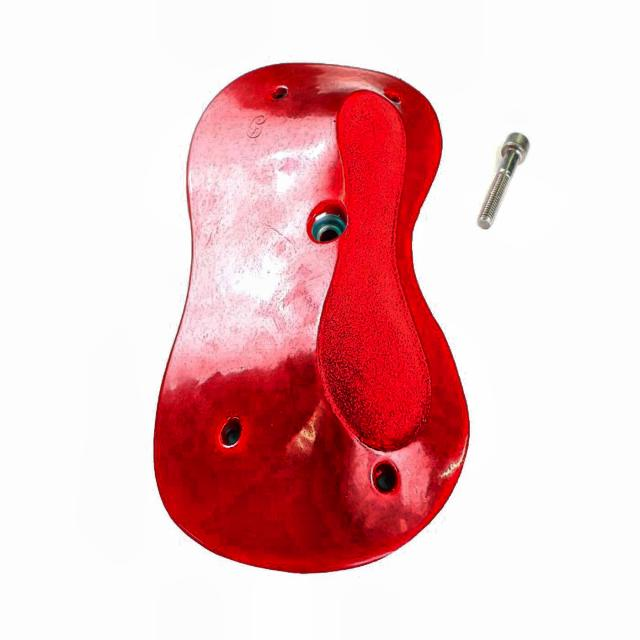Hold: (164, 60, 472, 575)
